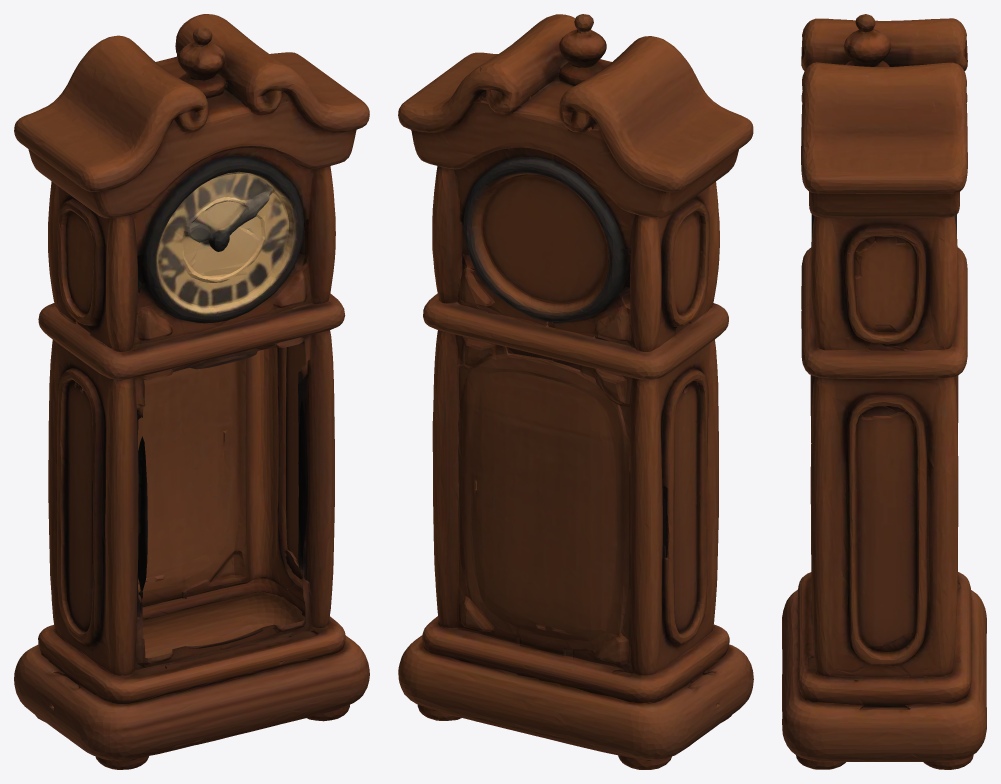
File: body.glb
3 views of the same model, side by side, from view 1: azimuth 30°, elevation 25°; view 2: azimuth 150°, elevation 25°; view 3: azimuth 270°, elevation 25° (orthographic).
Visible parts, largest first — view 1: source_surface_0; view 2: source_surface_0; view 3: source_surface_0.
Part boxes in pixels (x1,y1,x2,y2): source_surface_0: [14, 14, 369, 769]; source_surface_0: [398, 14, 753, 769]; source_surface_0: [782, 14, 986, 769].
Bounding box in the file's own units: 0.3894 × 0.9 × 0.2389.
1 material, 1 textured.
